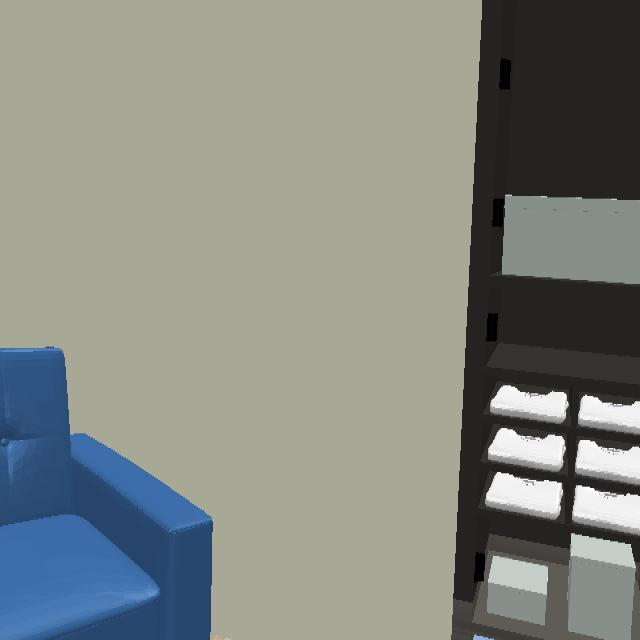sofa: (0, 347, 213, 640)
wardrobe: (454, 0, 640, 640)
